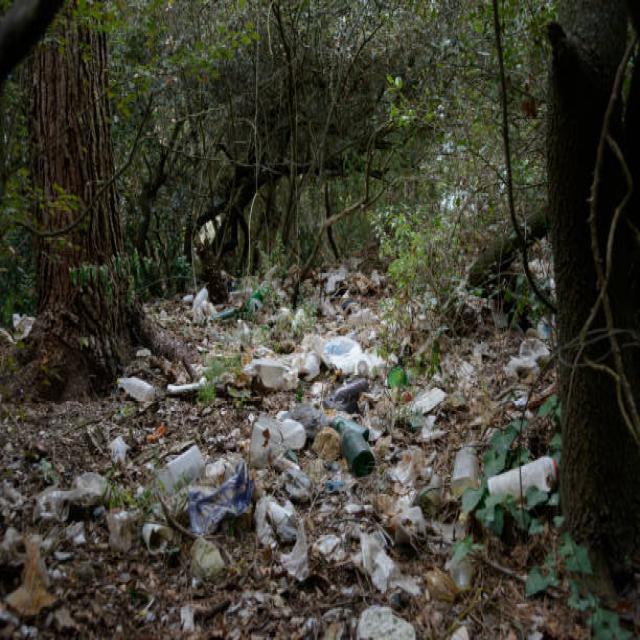trash: (86, 298, 533, 580)
